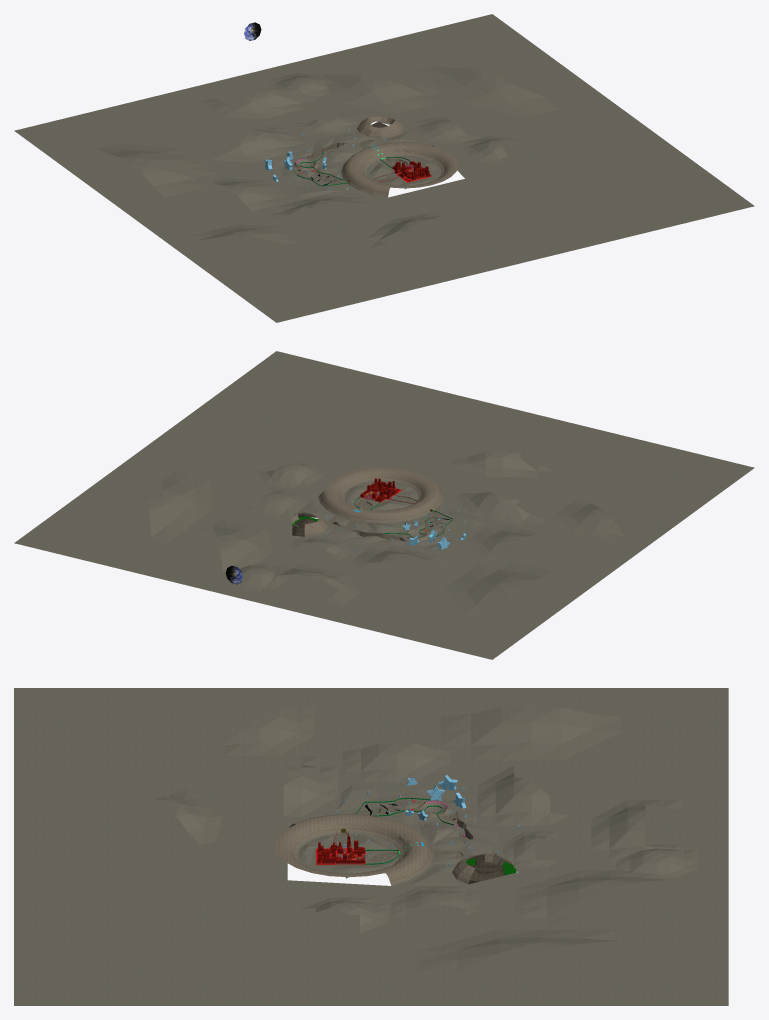
3 renders of one model, top to bottom at view 1: azimuth 30°, elevation 25°; view 2: azimuth 150°, elevation 25°; view 3: azimuth 270°, elevation 25°, orthographic. The views are drawn at different scales.
Parts seen in each view (by area): view 1: LS183_GRP_93454_Rocks_and_stars.001, LS182_GRP_93421_Wall_Terrain.001, LS170_GRP_97521_TransitionsBuildings.001; view 2: LS183_GRP_93454_Rocks_and_stars.001, LS182_GRP_93421_Wall_Terrain.001, LS170_GRP_97521_TransitionsBuildings.001; view 3: LS183_GRP_93454_Rocks_and_stars.001, LS182_GRP_93421_Wall_Terrain.001, LS170_GRP_97521_TransitionsBuildings.001, LS167_GRP_90849_Mainroad.001, LS186_GRP_94882_RainbowCrystals.001, LS173_GRP_98059_Building.001, LS184_GRP_94407_WallUnderground.001.
Part boxes in pixels (x1,y1,x2,y2): LS183_GRP_93454_Rocks_and_stars.001: (14, 14, 754, 322); LS182_GRP_93421_Wall_Terrain.001: (294, 116, 458, 194); LS170_GRP_97521_TransitionsBuildings.001: (293, 123, 444, 197); LS183_GRP_93454_Rocks_and_stars.001: (14, 351, 754, 659); LS182_GRP_93421_Wall_Terrain.001: (290, 467, 442, 541); LS170_GRP_97521_TransitionsBuildings.001: (298, 478, 444, 541); LS183_GRP_93454_Rocks_and_stars.001: (14, 688, 728, 1005); LS182_GRP_93421_Wall_Terrain.001: (275, 804, 510, 882); LS170_GRP_97521_TransitionsBuildings.001: (289, 802, 512, 885); LS167_GRP_90849_Mainroad.001: (337, 799, 469, 862); LS186_GRP_94882_RainbowCrystals.001: (308, 774, 519, 865); LS173_GRP_98059_Building.001: (317, 831, 364, 863); LS184_GRP_94407_WallUnderground.001: (468, 857, 504, 883).
Bounding box in the file's own units: 468815 × 53349 × 462029.
Materials: 30 (30 with a texture image).
